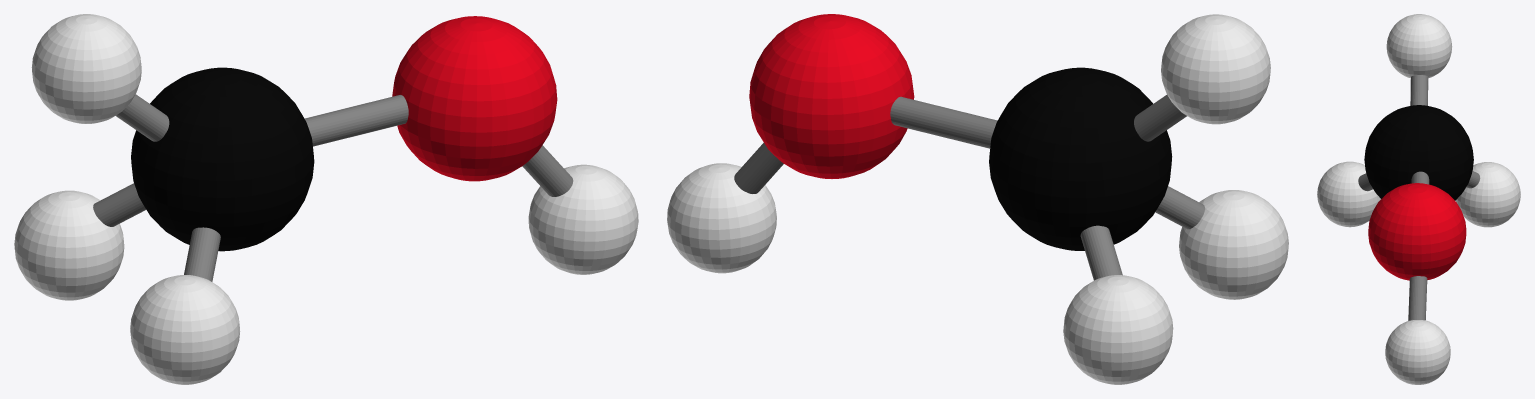
The picture shows the model from 3 angles, left to right: view 1: azimuth 30°, elevation 25°; view 2: azimuth 150°, elevation 25°; view 3: azimuth 270°, elevation 25°; orthographic projection. The views are drawn at different scales.
Parts seen in each view (by area): view 1: Sphere, водорд 4.001, Sphere.001, Sphere.003, Sphere.002, водорд 4, водорд 4.002, Cylinder.003, водорд 4.003, Cylinder.005, Cylinder.004; view 2: Sphere, водорд 4.001, Sphere.003, Sphere.002, Sphere.001, водорд 4, водорд 4.002, Cylinder.004, водорд 4.003, Cylinder.005, Cylinder.003; view 3: Sphere, водорд 4.001, водорд 4, Sphere.003, Sphere.002, Sphere.001, водорд 4.003, Cylinder.005, водорд 4.002.
Part boxes in pixels (<box>): Sphere: <box>131,67,314,251</box>; водорд 4.001: <box>392,16,557,181</box>; Sphere.001: <box>130,275,240,384</box>; Sphere.003: <box>31,14,141,123</box>; Sphere.002: <box>14,190,124,300</box>; водорд 4: <box>528,164,638,274</box>; водорд 4.002: <box>305,95,408,146</box>; Cylinder.003: <box>184,227,220,281</box>; водорд 4.003: <box>522,145,573,196</box>; Cylinder.005: <box>115,94,169,141</box>; Cylinder.004: <box>93,183,146,226</box>; Sphere: <box>989,67,1172,250</box>; водорд 4.001: <box>749,14,914,178</box>; Sphere.003: <box>1161,14,1270,124</box>; Sphere.002: <box>1063,275,1173,384</box>; Sphere.001: <box>1179,190,1288,299</box>; водорд 4: <box>667,163,776,273</box>; водорд 4.002: <box>890,96,997,148</box>; Cylinder.004: <box>1080,225,1122,280</box>; водорд 4.003: <box>734,142,783,193</box>; Cylinder.005: <box>1134,95,1186,141</box>; Cylinder.003: <box>1155,186,1204,229</box>; Sphere: <box>1364,105,1473,200</box>; водорд 4.001: <box>1368,183,1466,280</box>; водорд 4: <box>1385,320,1450,384</box>; Sphere.003: <box>1386,14,1452,78</box>; Sphere.002: <box>1456,162,1520,227</box>; Sphere.001: <box>1317,161,1380,227</box>; водорд 4.003: <box>1408,276,1427,320</box>; Cylinder.005: <box>1410,75,1428,105</box>; водорд 4.002: <box>1411,171,1429,184</box>.
Bounding box in the file's own units: 3.71 × 2.23 × 1.86.
